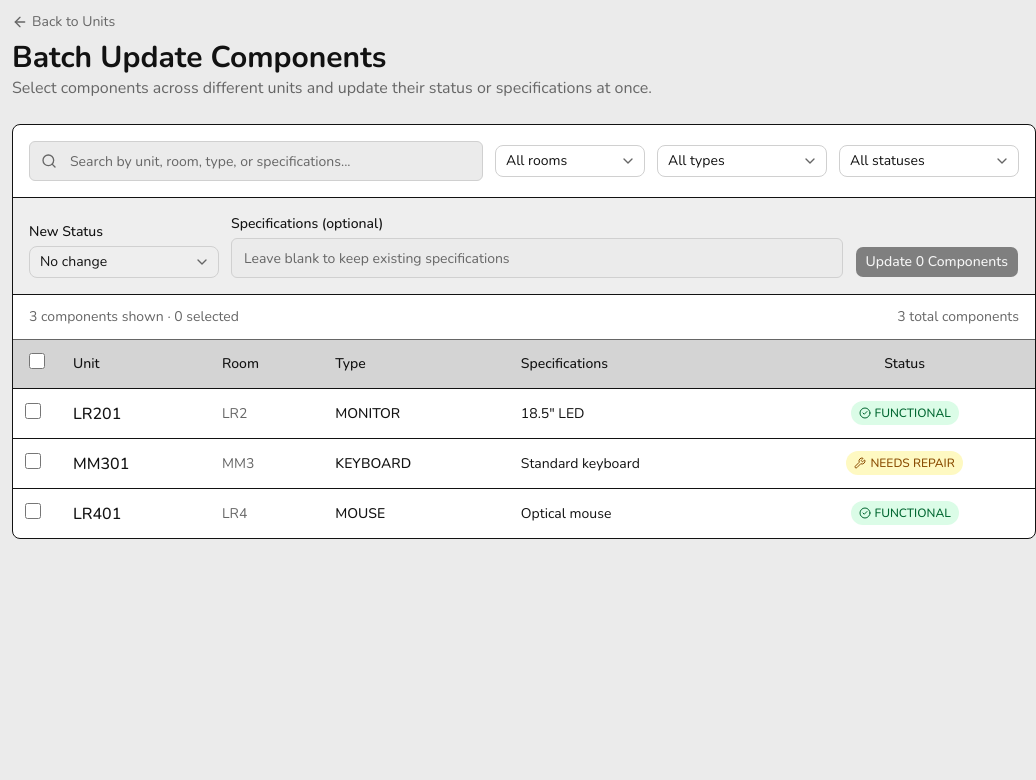
Test: BatchUpdateClient › updates the status of selected components across units
This screenshot has width=1036, height=780.
Step 1. Click the checkbox named "Select LR201 MONITOR" → (33, 410), box [25,402,41,418]
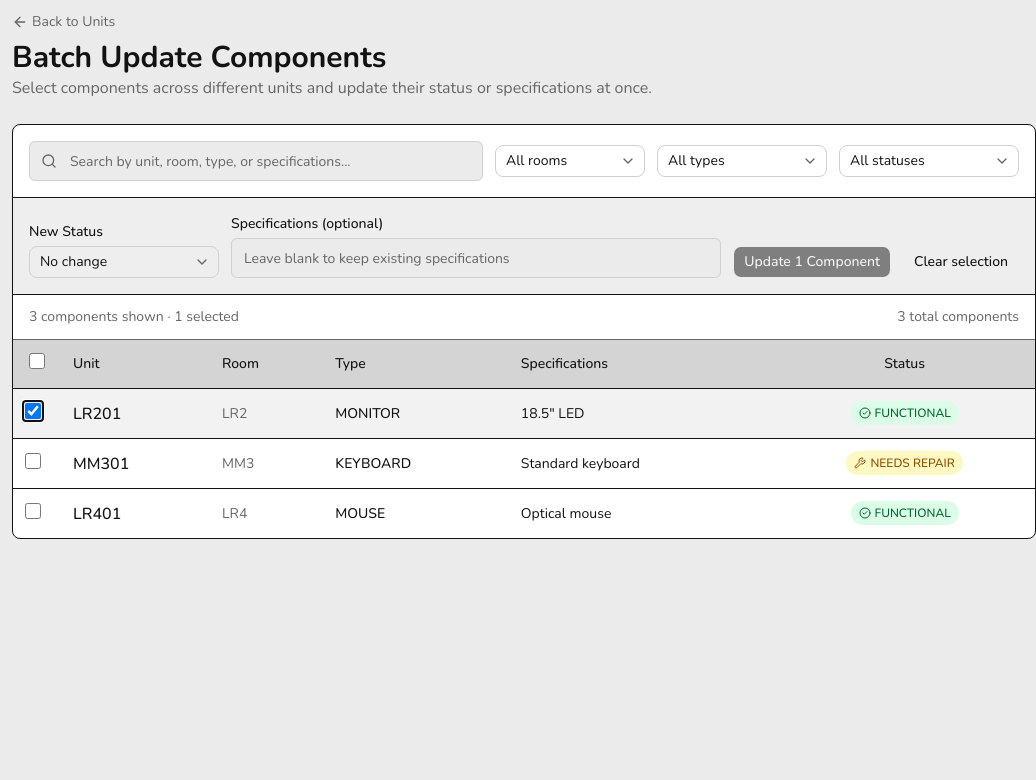
Step 2. Click the checkbox named "Select MM301 KEYBOARD" → (33, 460), box [25,452,41,468]
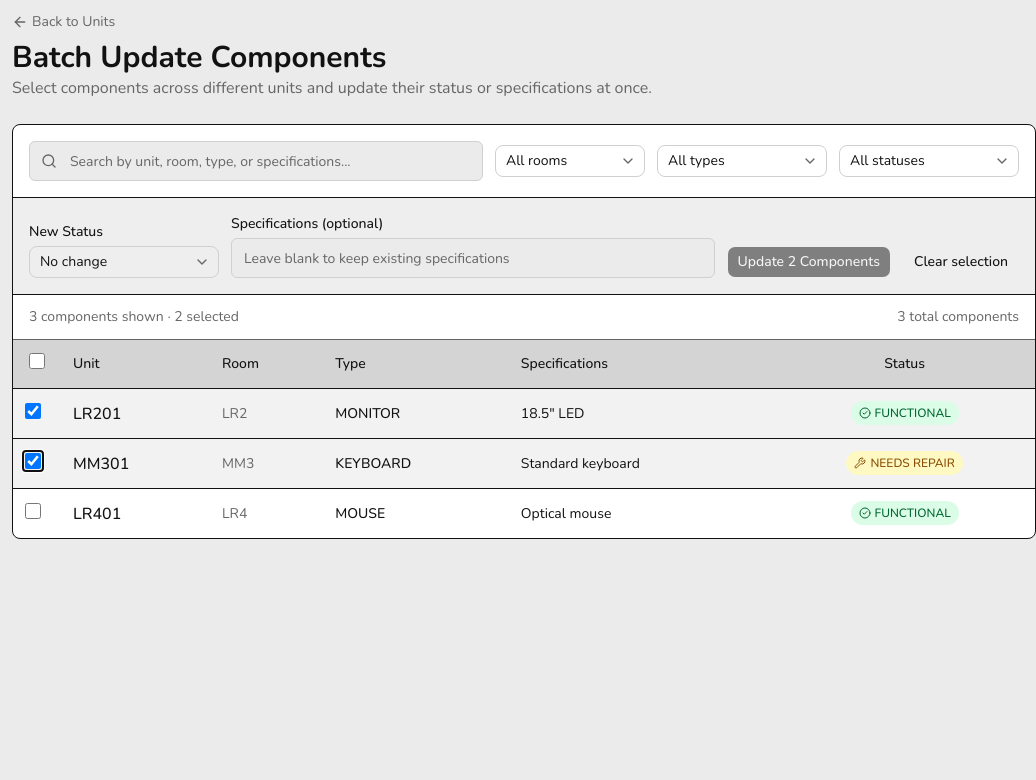
Step 3. Click the dropdown named "new status" → (124, 262), box [29,246,219,278]
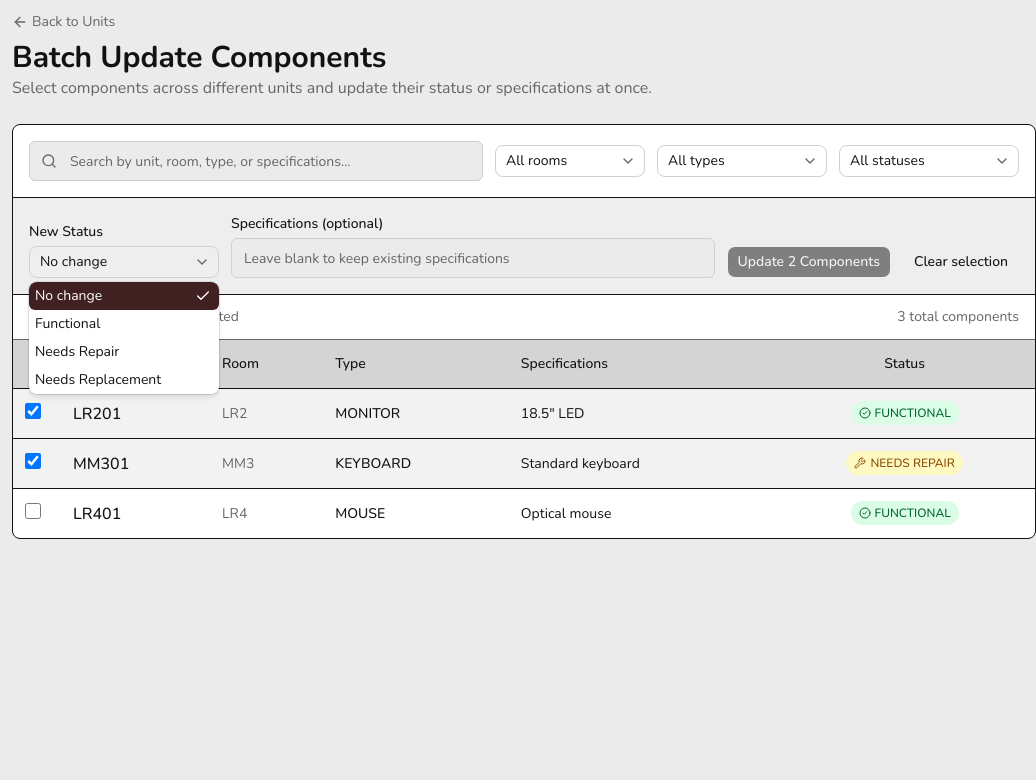
Step 4. Click the option "Needs Replacement" → (98, 380), box [35,370,161,389]
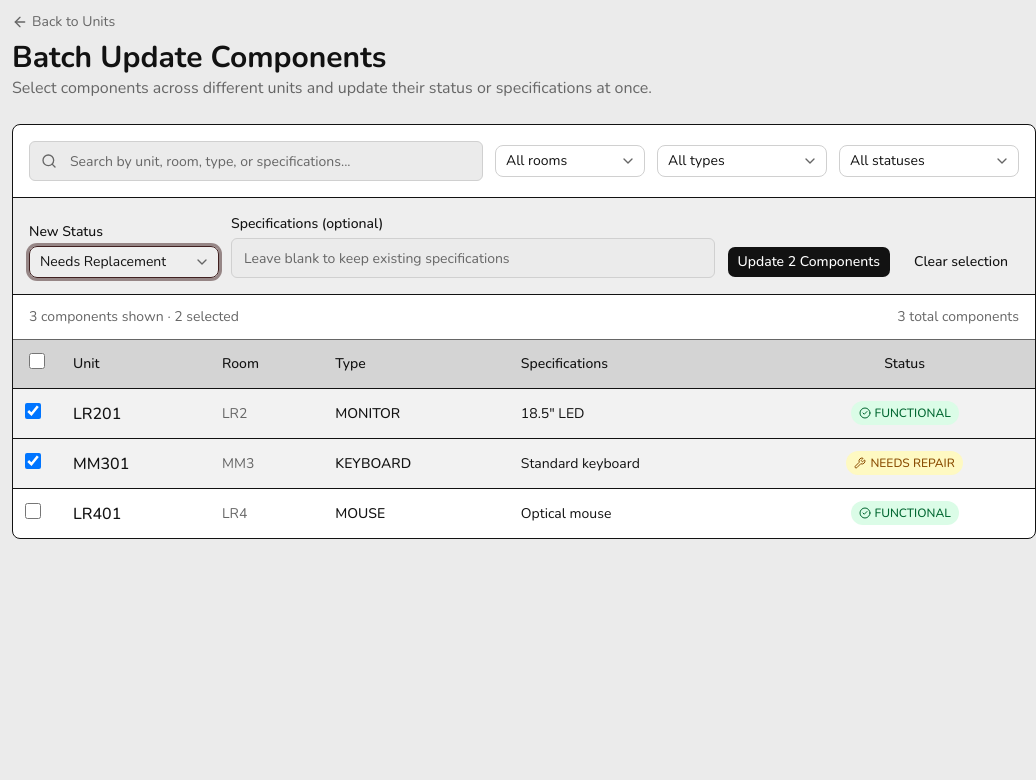
Step 5. Click the button "Update 2 Components" → (809, 262), box [726,246,891,278]
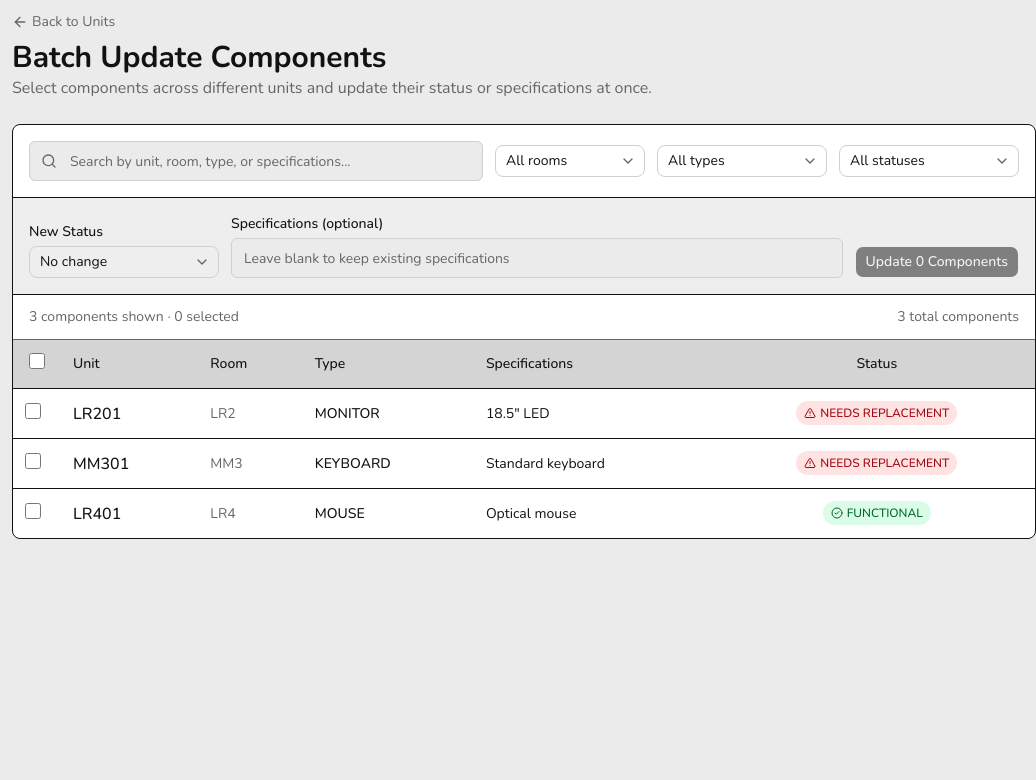
Expected: the text "NEEDS REPLACEMENT" is shown 2 times, [796,401,957,425]; [796,451,957,475]
Expected: the text "3 components shown · 0 selected" is shown, [29,307,239,327]
